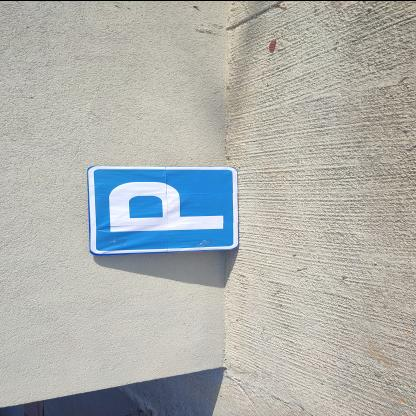Parking-Sign: (86, 165, 245, 257)
